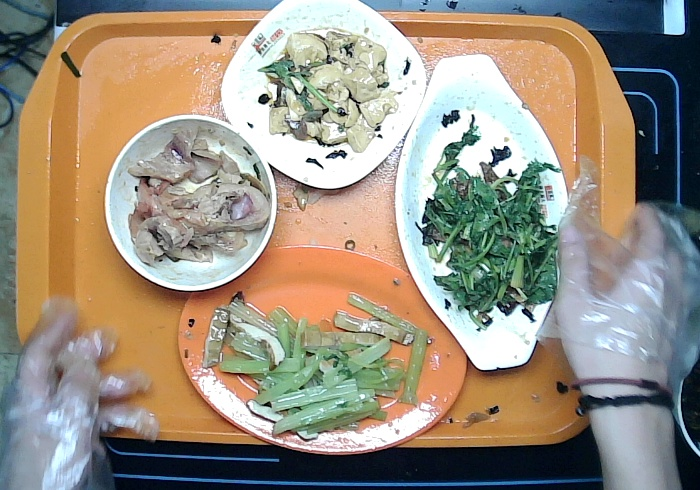NLDX-Bai_Se_Xiao_Fang_Die: (220, 1, 429, 192)
NLDX-Fan_Wan: (101, 110, 281, 292)
NLDX-Ju_Se_Pan: (176, 245, 470, 457)
NLDX-Yu_Pan: (393, 53, 572, 372)
